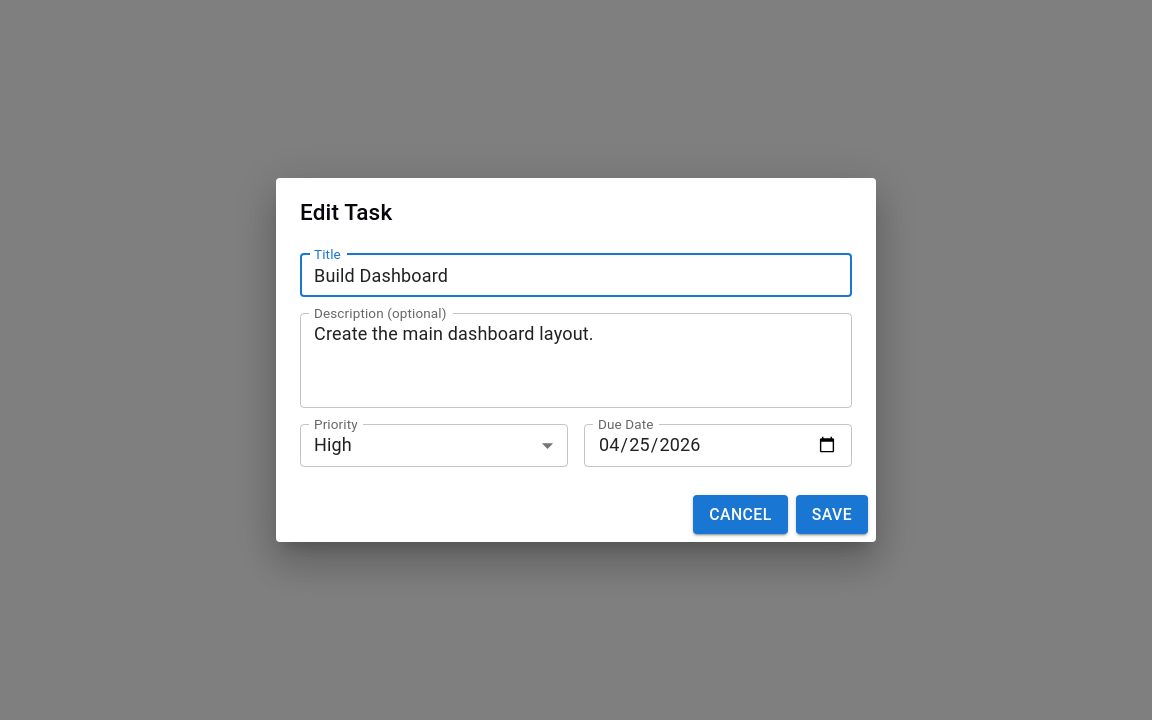
Scenario: EditTaskModal › shows validation error when title is cleared
The image size is (1152, 720).
Clear the field showing "Build Dashboard" at (576, 275), box [300, 254, 852, 297]
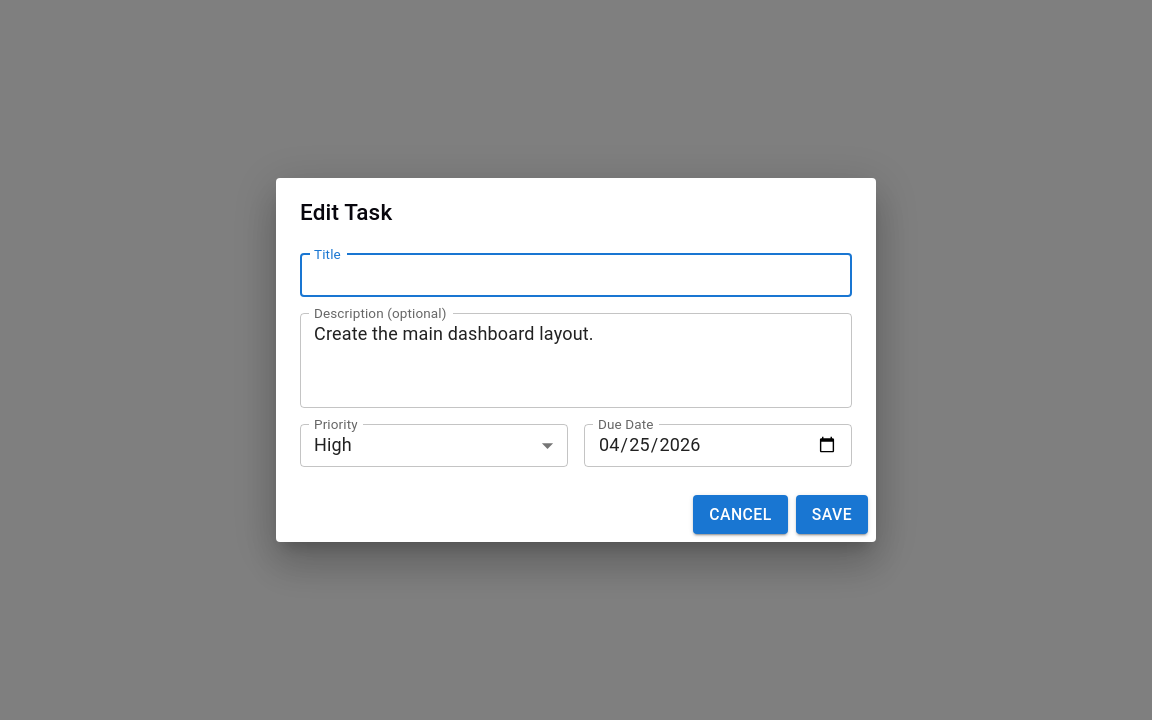
Click the button "Save" at (832, 514), box [796, 495, 868, 534]
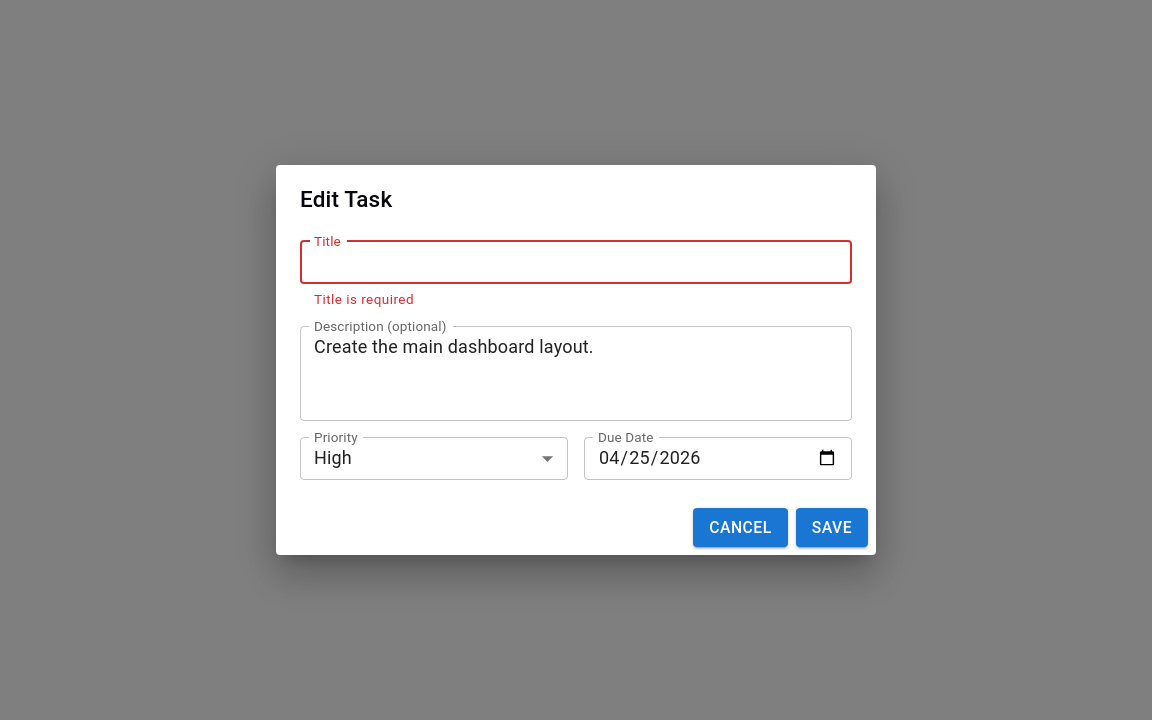
Now the text "Title is required" is shown, box [314, 290, 414, 306]
